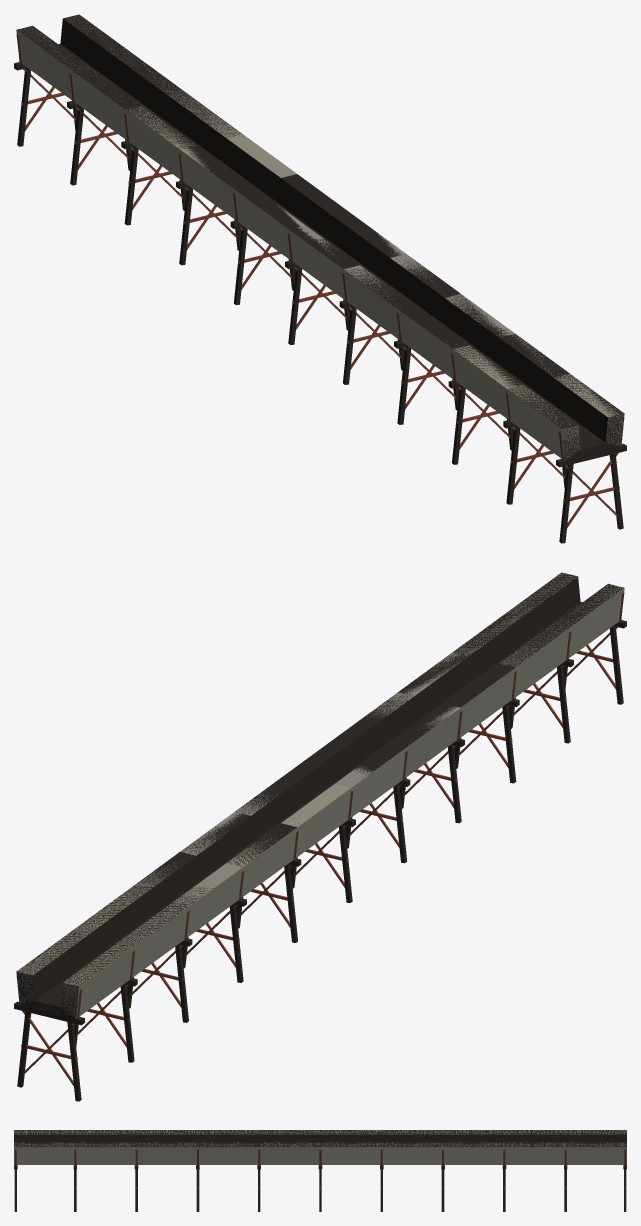
The model's file is flume_reach_120.glb.
The picture shows the model from 3 angles, top to bottom: view 1: azimuth 30°, elevation 25°; view 2: azimuth 150°, elevation 25°; view 3: azimuth 270°, elevation 25°; orthographic projection. The views are drawn at different scales.
Parts seen in each view (by area): view 1: flume_reach_120-col-col, flume_reach_120_body; view 2: flume_reach_120-col-col, flume_reach_120_body; view 3: flume_reach_120_body, flume_reach_120-col-col.
Part boxes in pixels (x1,y1,x2,y2): flume_reach_120-col-col: [14, 14, 626, 543]; flume_reach_120_body: [16, 15, 624, 528]; flume_reach_120-col-col: [14, 572, 626, 1101]; flume_reach_120_body: [16, 573, 624, 1086]; flume_reach_120_body: [14, 1130, 626, 1188]; flume_reach_120-col-col: [14, 1130, 626, 1211].
Bounding box in the file's own units: 8.6 × 14.03 × 120.
